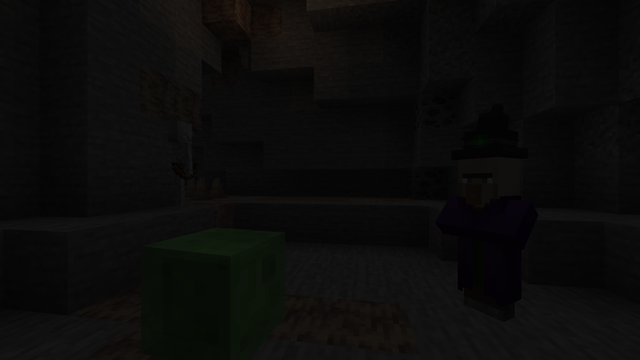slimes: (136, 224, 283, 354)
sorcieres: (453, 150, 529, 326)
squelettes: (164, 119, 194, 206)
